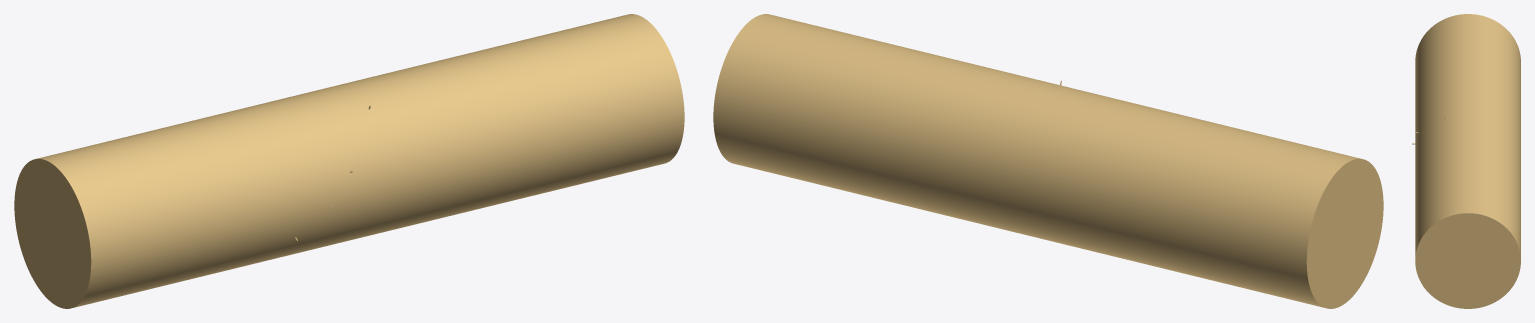
The model's file is Four-note-test.glb.
3 renders of one model, left to right at view 1: azimuth 30°, elevation 25°; view 2: azimuth 150°, elevation 25°; view 3: azimuth 270°, elevation 25°, orthographic. The views are drawn at different scales.
Parts seen in each view (by area): view 1: cylinder_body; view 2: cylinder_body; view 3: cylinder_body.
Part boxes in pixels (x1,y1,x2,y2): cylinder_body: (14,14,684,308); cylinder_body: (713,14,1383,308); cylinder_body: (1415,14,1520,308).
Bounding box in the file's own units: 0.214 × 0.048 × 0.0495.
